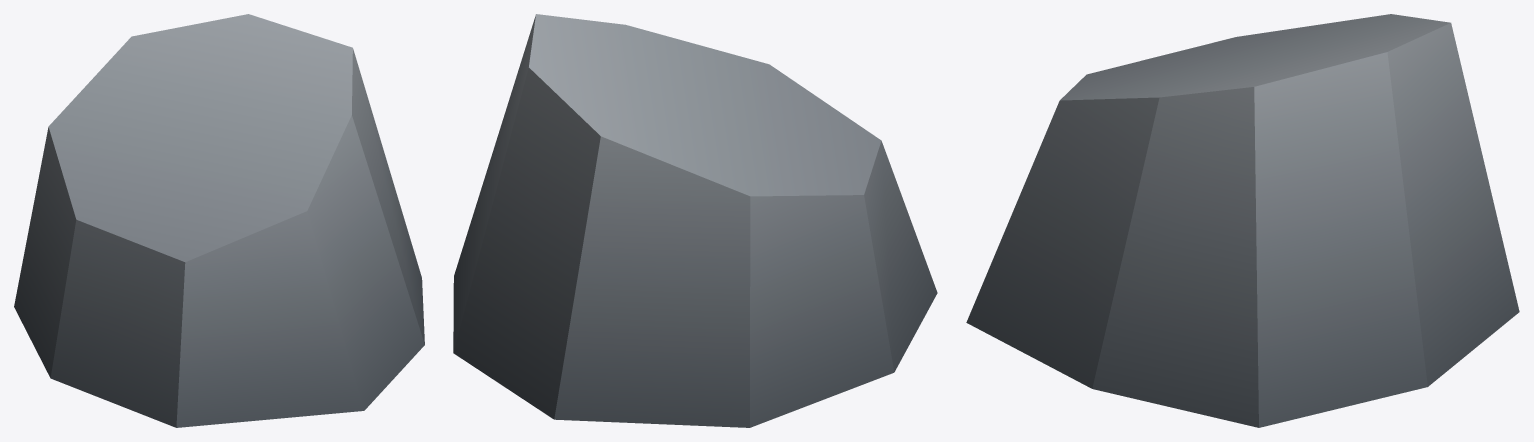
The model's file is rock_LargeSlanted.fbx.
3 renders of one model, left to right at view 1: azimuth 30°, elevation 25°; view 2: azimuth 150°, elevation 25°; view 3: azimuth 270°, elevation 25°, orthographic. The views are drawn at different scales.
Parts seen in each view (by area): view 1: largeSlantedRock; view 2: largeSlantedRock; view 3: largeSlantedRock.
Part boxes in pixels (x1,y1,x2,y2): largeSlantedRock: [14, 14, 424, 427]; largeSlantedRock: [453, 14, 937, 427]; largeSlantedRock: [966, 14, 1519, 427].
Bounding box in the file's own units: 145 × 92.3 × 151.
